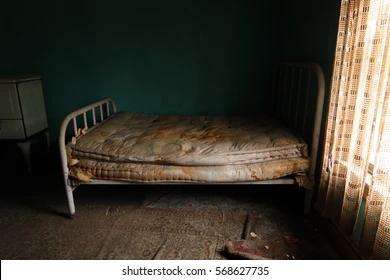Bed-Mattress: (71, 112, 308, 166)
